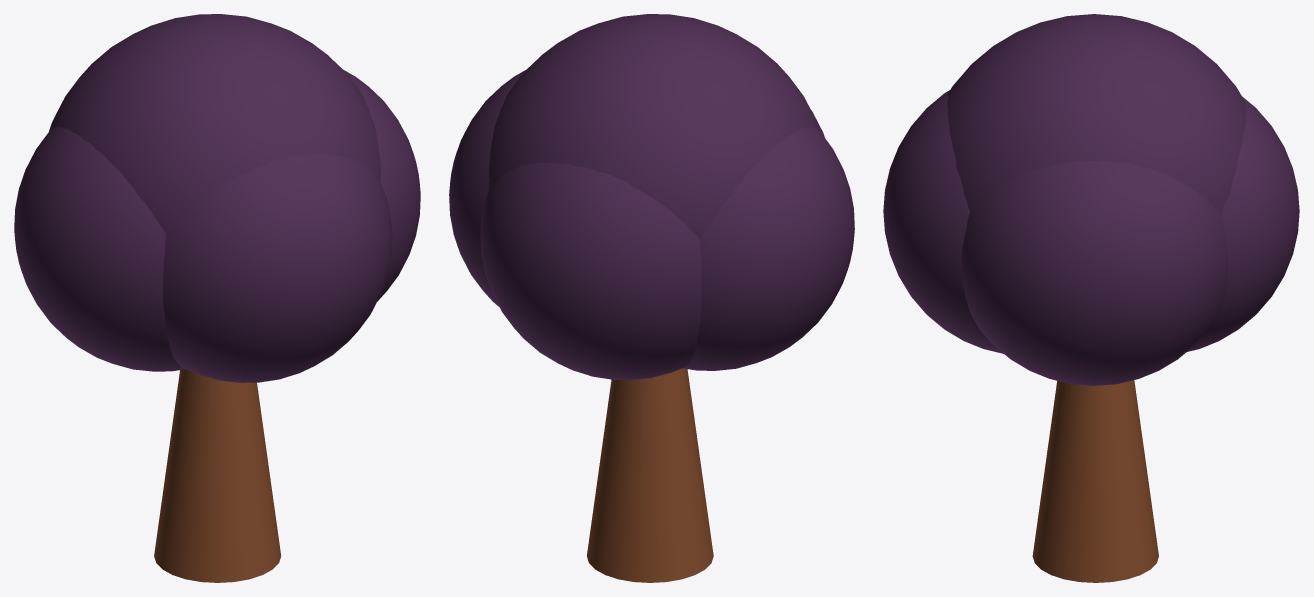
File: FearLv1.glb
The picture shows the model from 3 angles, left to right: view 1: azimuth 30°, elevation 25°; view 2: azimuth 150°, elevation 25°; view 3: azimuth 270°, elevation 25°; orthographic projection.
Visible parts, largest first — view 1: GeoSphere042, GeoSphere046, GeoSphere044, Cone213, GeoSphere043; view 2: GeoSphere042, GeoSphere045, GeoSphere044, Cone213, GeoSphere043; view 3: GeoSphere043, GeoSphere042, Cone213, GeoSphere046, GeoSphere045.
Boxes of the visible parts, <box> form: GeoSphere042: <box>49,14,381,233</box>; GeoSphere046: <box>163,154,392,382</box>; GeoSphere044: <box>14,127,184,371</box>; Cone213: <box>154,369,281,582</box>; GeoSphere043: <box>344,70,420,301</box>; GeoSphere042: <box>488,14,820,238</box>; GeoSphere045: <box>480,162,701,379</box>; GeoSphere044: <box>683,126,854,370</box>; Cone213: <box>587,368,713,582</box>; GeoSphere043: <box>449,70,525,306</box>; GeoSphere043: <box>962,161,1228,385</box>; GeoSphere042: <box>947,14,1246,216</box>; Cone213: <box>1032,380,1158,582</box>; GeoSphere046: <box>883,90,1003,353</box>; GeoSphere045: <box>1187,97,1299,351</box>.
Size of the model in its own units: 0.3704 by 0.5074 by 0.3653.
